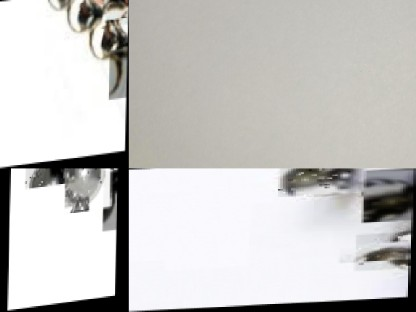ironball: (363, 169, 415, 223), (278, 168, 361, 197), (355, 233, 412, 272), (63, 168, 112, 212), (25, 168, 75, 188), (102, 171, 117, 233), (109, 50, 127, 101), (105, 0, 128, 28)
